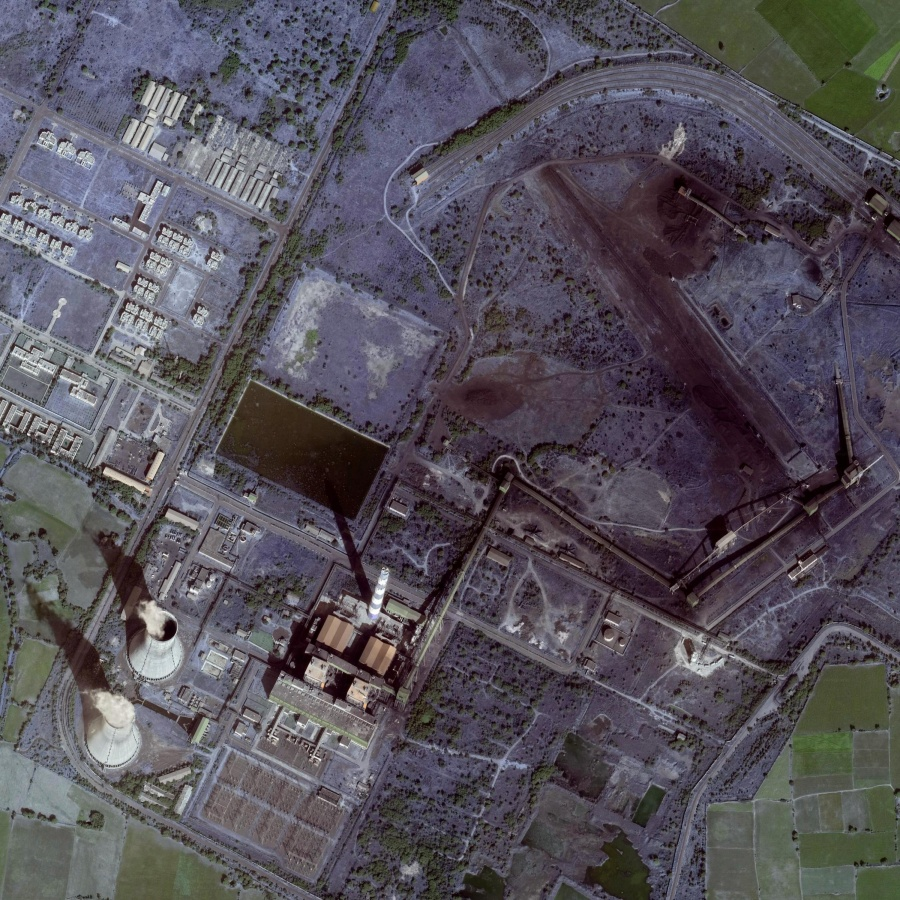PowerPlant: (52, 364, 489, 822), (500, 131, 826, 527)
